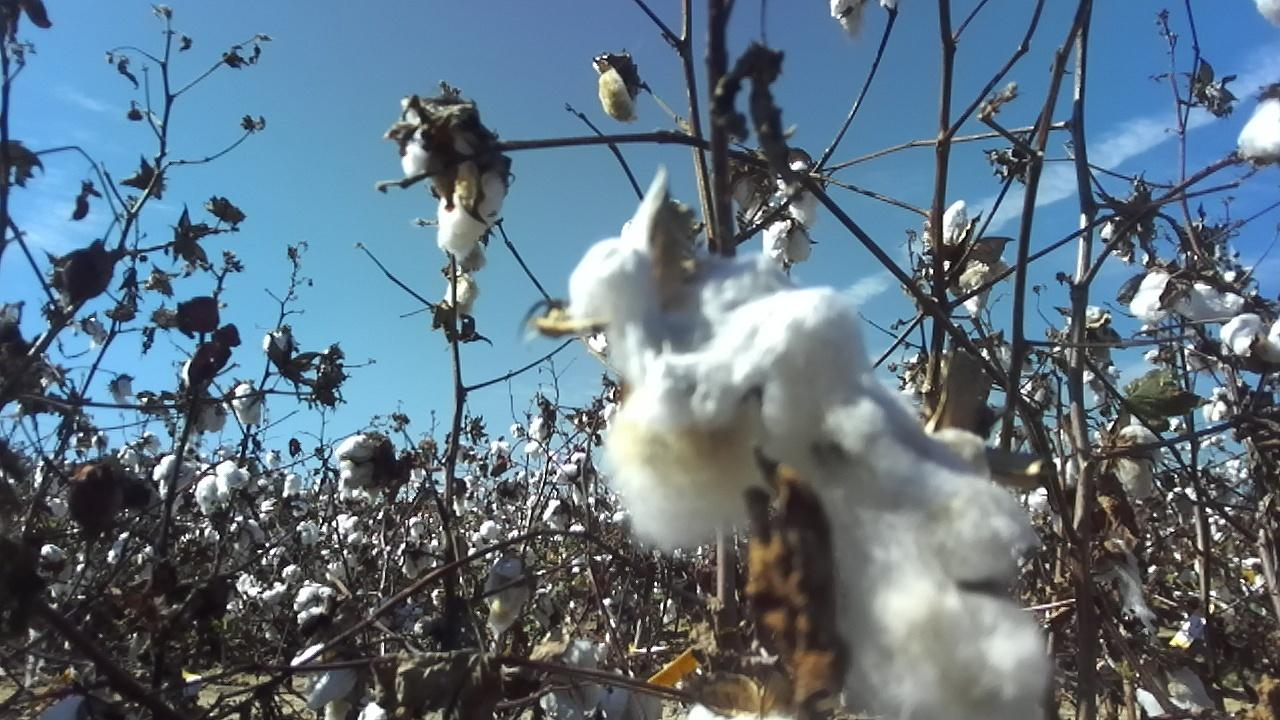cotton_ready: (570, 167, 1050, 720), (401, 95, 512, 260), (926, 198, 1014, 319), (1127, 265, 1248, 321), (1089, 542, 1159, 634), (1094, 422, 1164, 504), (1139, 647, 1217, 720), (288, 637, 359, 711), (544, 639, 602, 707), (481, 555, 530, 632), (337, 430, 389, 501), (1219, 310, 1280, 369), (1029, 452, 1080, 517), (592, 54, 635, 124), (195, 457, 250, 511), (776, 160, 822, 223), (739, 165, 789, 222), (829, 0, 899, 39), (1240, 99, 1280, 167), (764, 215, 814, 264), (599, 664, 639, 720), (293, 582, 339, 626), (154, 452, 196, 498), (35, 544, 70, 591), (231, 382, 265, 427), (40, 695, 94, 720), (192, 399, 229, 435), (445, 270, 479, 309), (264, 329, 300, 355), (1255, 0, 1280, 25)
